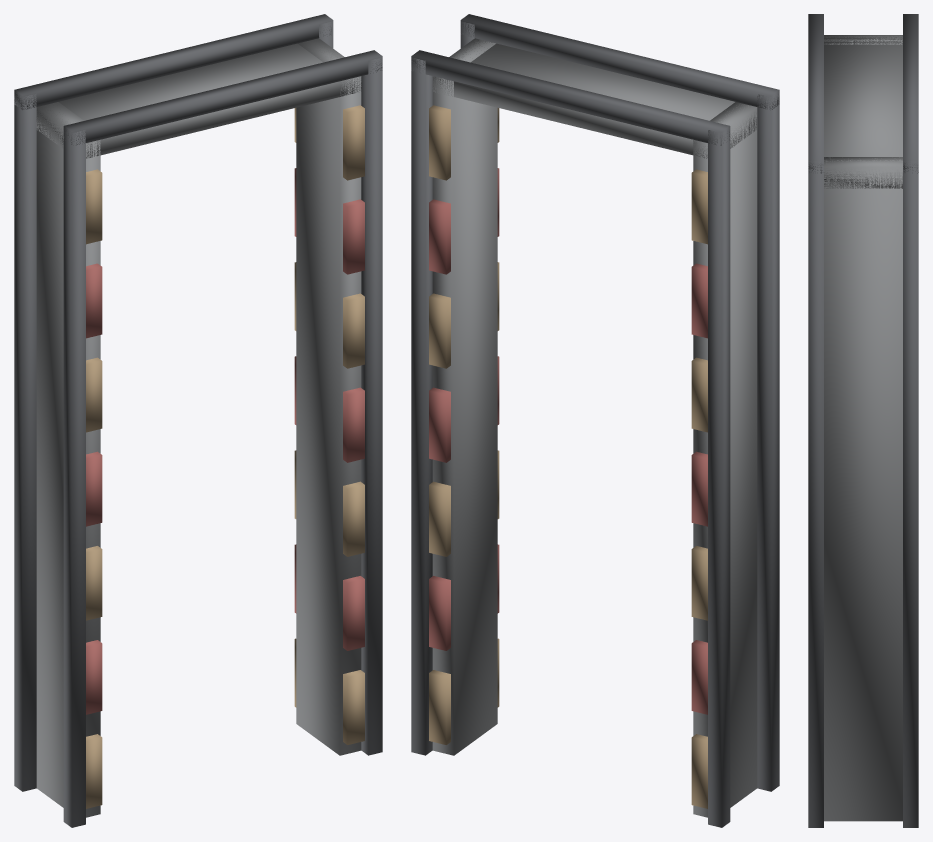
Rendered from doorway_brick_return_w76_h200_d24.glb.
The picture shows the model from 3 angles, left to right: view 1: azimuth 30°, elevation 25°; view 2: azimuth 150°, elevation 25°; view 3: azimuth 270°, elevation 25°; orthographic projection. The views are drawn at different scales.
Visible parts, largest first — view 1: world; view 2: world; view 3: world.
Part boxes in pixels (x1,y1,x2,y2): world: [14, 14, 382, 827]; world: [411, 14, 779, 827]; world: [808, 14, 918, 827].
Bounding box in the file's own units: 0.9868 × 2.11 × 0.3165.
